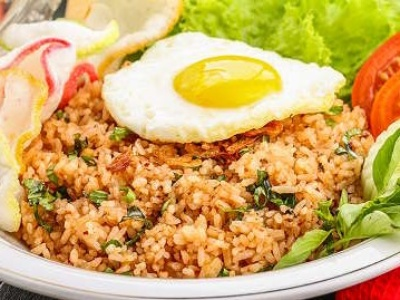nasigoreng: (54, 43, 357, 259)
